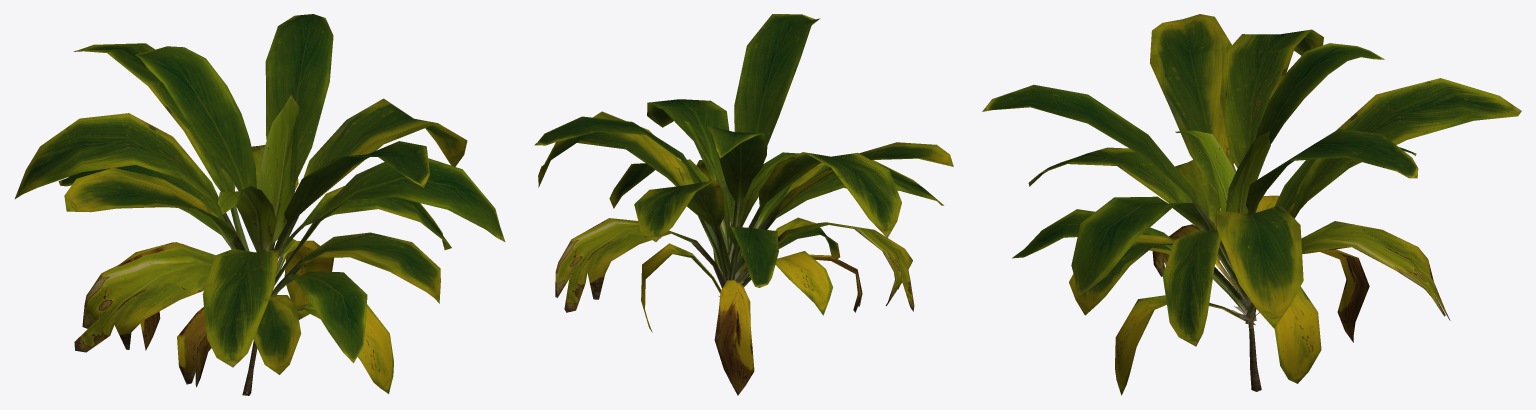
File: background_plant_7.glb
The picture shows the model from 3 angles, left to right: view 1: azimuth 30°, elevation 25°; view 2: azimuth 150°, elevation 25°; view 3: azimuth 270°, elevation 25°; orthographic projection. The views are drawn at different scales.
Visible parts, largest first — view 1: yes; view 2: yes; view 3: yes.
Boxes of the visible parts, x1=… form: yes: x1=15, y1=14, x2=505, y2=395; yes: x1=534, y1=14, x2=953, y2=395; yes: x1=982, y1=14, x2=1521, y2=395.
Bounding box in the file's own units: 4.67 × 3.26 × 4.98.
1 material, 1 textured.
